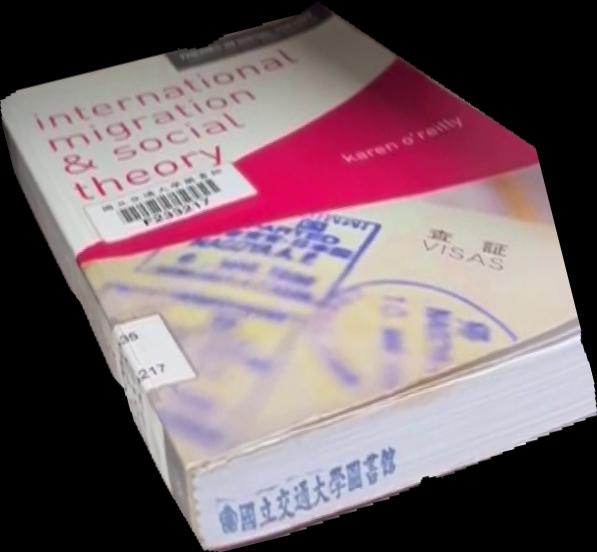flat: (1, 1, 597, 552)
